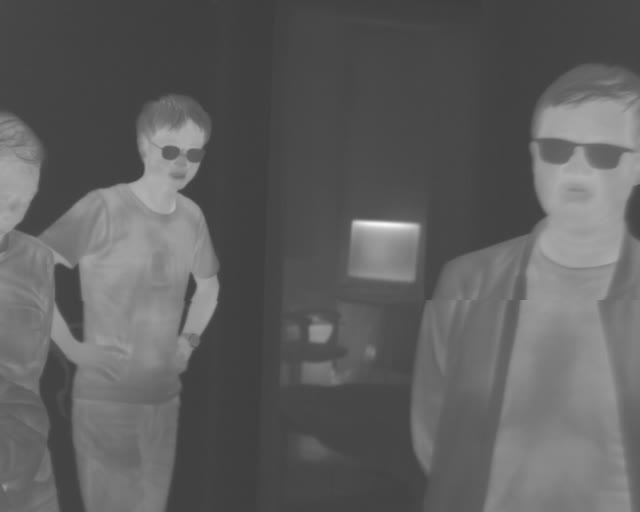face: (527, 61, 640, 229), (135, 92, 212, 192)
